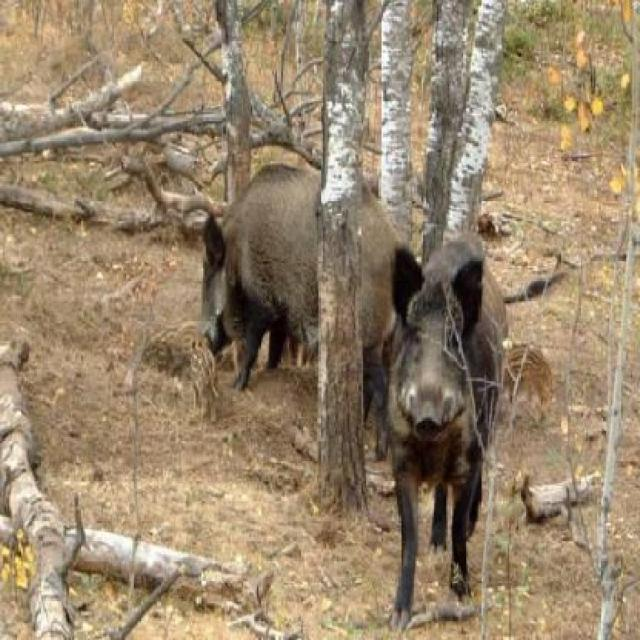wildboar: (188, 158, 414, 398), (379, 226, 510, 629), (495, 328, 563, 423), (142, 311, 209, 383), (191, 334, 223, 423)
